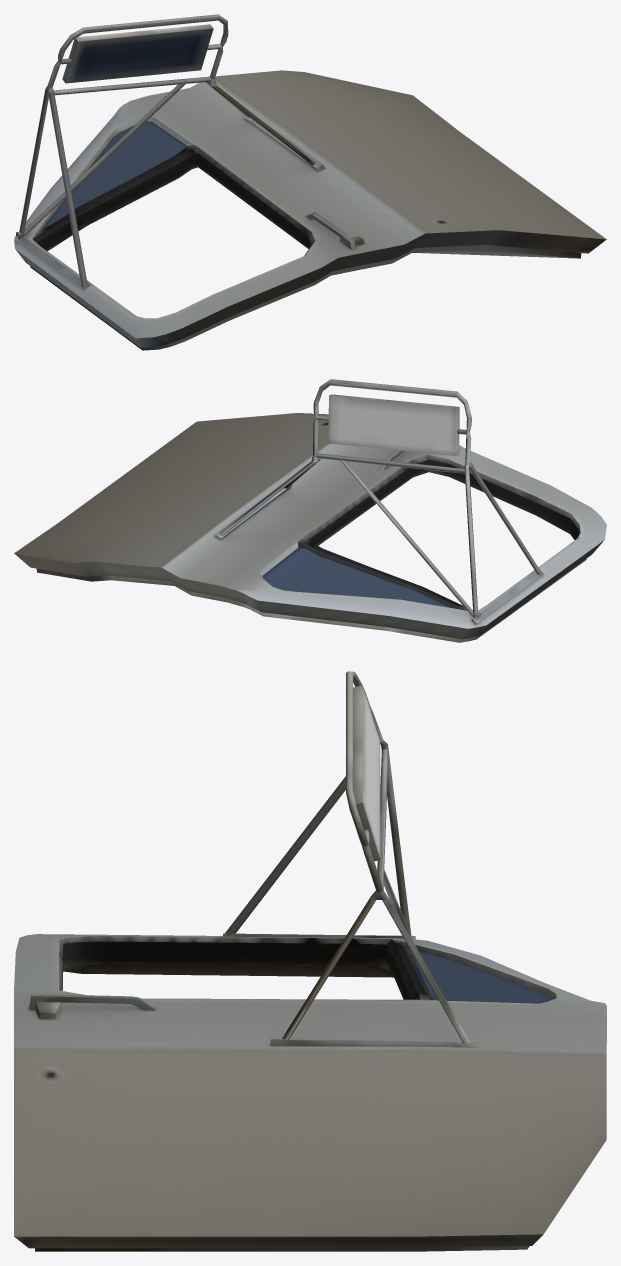
Rendered from C70Door_WorldItem.fbx.
3 renders of one model, top to bottom at view 1: azimuth 30°, elevation 25°; view 2: azimuth 150°, elevation 25°; view 3: azimuth 270°, elevation 25°, orthographic. The views are drawn at different scales.
Parts seen in each view (by area): view 1: FrontRightDoor_obj; view 2: FrontRightDoor_obj; view 3: FrontRightDoor_obj.
Part boxes in pixels (box(x1,y1,x2,y2)): FrontRightDoor_obj: box(14, 14, 606, 350); FrontRightDoor_obj: box(14, 379, 606, 642); FrontRightDoor_obj: box(14, 671, 606, 1251).
Size of the model in its own units: 1.88 by 0.96 by 1.56.
